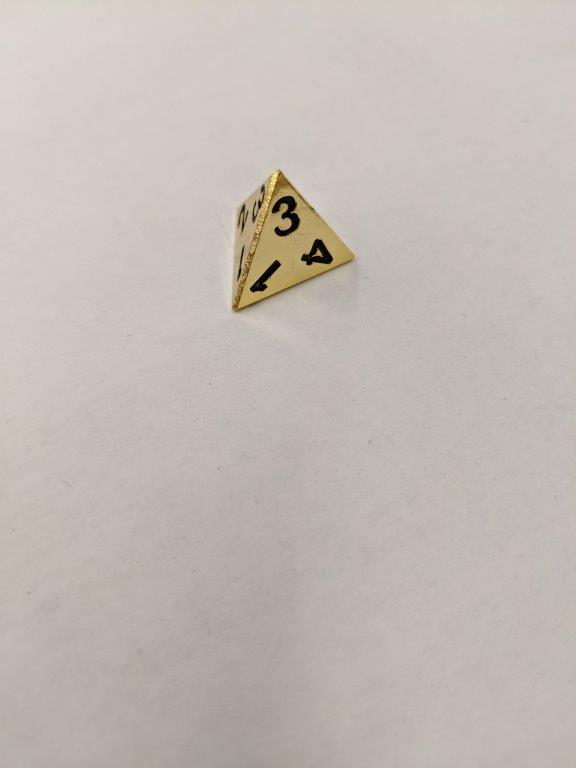d4-3: (227, 168, 360, 315)
